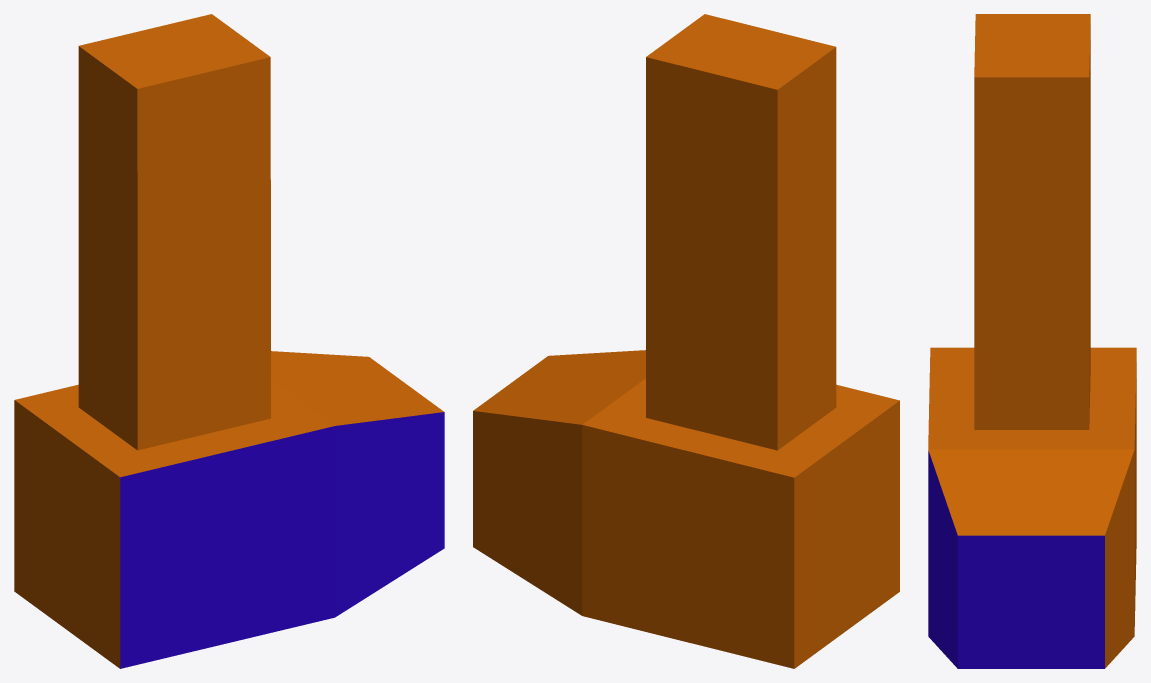
Rendered from testCollada.dae.
The picture shows the model from 3 angles, left to right: view 1: azimuth 30°, elevation 25°; view 2: azimuth 150°, elevation 25°; view 3: azimuth 270°, elevation 25°; orthographic projection. The views are drawn at different scales.
Visible parts, largest first — view 1: Cube; view 2: Cube; view 3: Cube.
Part boxes in pixels (left/top/right/bottom): Cube: left=14, top=14, right=444, bottom=668; Cube: left=473, top=14, right=899, bottom=668; Cube: left=928, top=14, right=1136, bottom=668.
Size of the model in its own units: 3.7 by 2.02 by 5.77.
